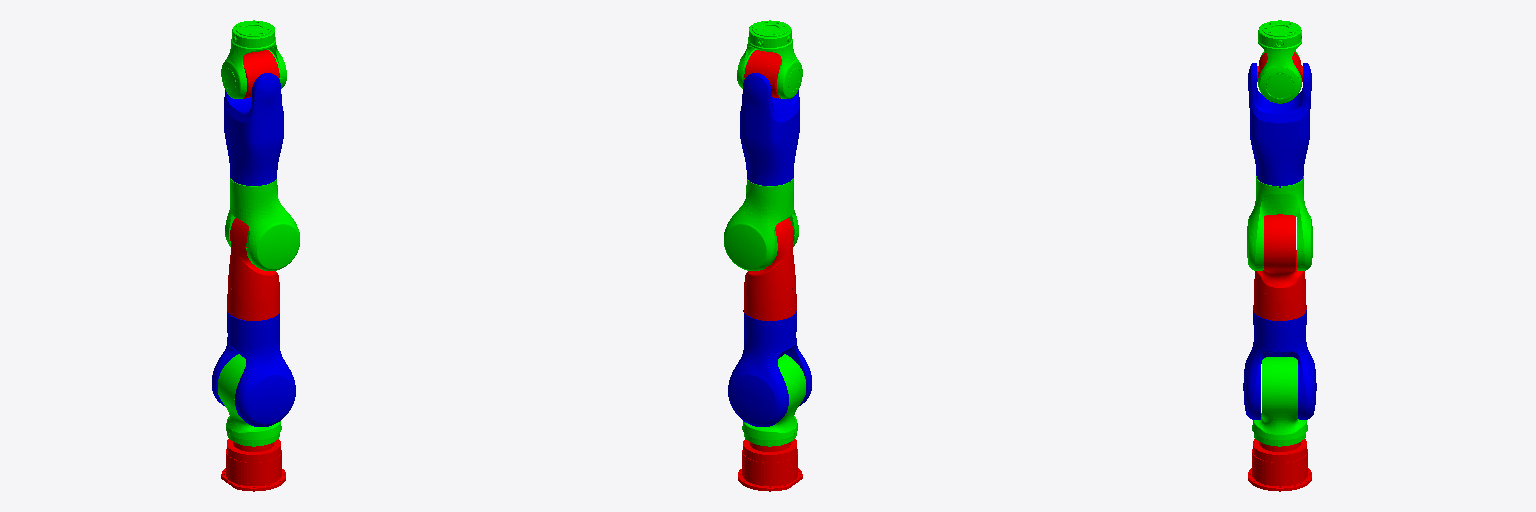
robot.urdf — Marvin M6-S-R-CCS-689 urdf:
<?xml version="1.0" encoding="utf-8"?>
<!-- This URDF was automatically created by SolidWorks to URDF Exporter! Originally created by [author] ([email redacted]) 
     Commit Version: 1.5.1-0-g916b5db  Build Version: 1.5.7152.31018
     For more information, please see http://wiki.ros.org/sw_urdf_exporter -->
<robot
  name="Marvin M6-S-R-CCS-689 urdf">
  <link
    name="Base_R">
    <inertial>
      <origin
        xyz="0.0001427 1.626E-05 0.039067"
        rpy="0 0 0" />
      <mass
        value="1.2946" />
      <inertia
        ixx="0.0031404"
        ixy="1.07E-06"
        ixz="-9.1E-07"
        iyy="0.0031251"
        iyz="3.9E-06"
        izz="0.0014169" />
    </inertial>
    <visual>
      <origin
        xyz="0 0 0"
        rpy="0 0 0" />
      <geometry>
        <mesh
          filename="package://Marvin M6-S-R-CCS-689_URDF/meshes/Base_R.STL" />
      </geometry>
      <material
        name="">
        <color
          rgba="1 0 0 1" />
      </material>
    </visual>
    <collision>
      <origin
        xyz="0 0 0"
        rpy="0 0 0" />
      <geometry>
        <mesh
          filename="package://Marvin M6-S-R-CCS-689_URDF/meshes/Base_R.STL" />
      </geometry>
    </collision>
  </link>
  <link
    name="Link1_R">
    <inertial>
      <origin
        xyz="1.875E-05 0.006003 0.1438"
        rpy="0 0 0" />
      <mass
        value="2.0926" />
      <inertia
        ixx="0.0485"
        ixy="2.85E-06"
        ixz="9.42E-06"
        iyy="0.048824"
        iyz="0.0021904"
        izz="0.0020558" />
    </inertial>
    <visual>
      <origin
        xyz="0 0 0"
        rpy="0 0 0" />
      <geometry>
        <mesh
          filename="package://Marvin M6-S-R-CCS-689_URDF/meshes/Link1_R.STL" />
      </geometry>
      <material
        name="">
        <color
          rgba="0 1 0 1" />
      </material>
    </visual>
    <collision>
      <origin
        xyz="0 0 0"
        rpy="0 0 0" />
      <geometry>
        <mesh
          filename="package://Marvin M6-S-R-CCS-689_URDF/meshes/Link1_R.STL" />
      </geometry>
    </collision>
  </link>
  <joint
    name="Joint1_R"
    type="revolute">
    <origin
      xyz="0 0 0"
      rpy="0 0 0" />
    <parent
      link="Base_R" />
    <child
      link="Link1_R" />
    <axis
      xyz="0 0 1" />
    <limit
      lower="-3.1067"
      upper="3.1067"
      effort="108"
      velocity="3.1416" />
  </joint>
  <link
    name="Link2_R">
    <inertial>
      <origin
        xyz="-7.03E-06 0.05542 0.010995"
        rpy="0 0 0" />
      <mass
        value="1.9432" />
      <inertia
        ixx="0.016558"
        ixy="-6.34E-06"
        ixz="1.91E-06"
        iyy="0.0033963"
        iyz="-6.31E-06"
        izz="0.015504" />
    </inertial>
    <visual>
      <origin
        xyz="0 0 0"
        rpy="0 0 0" />
      <geometry>
        <mesh
          filename="package://Marvin M6-S-R-CCS-689_URDF/meshes/Link2_R.STL" />
      </geometry>
      <material
        name="">
        <color
          rgba="0 0 1 1" />
      </material>
    </visual>
    <collision>
      <origin
        xyz="0 0 0"
        rpy="0 0 0" />
      <geometry>
        <mesh
          filename="package://Marvin M6-S-R-CCS-689_URDF/meshes/Link2_R.STL" />
      </geometry>
    </collision>
  </link>
  <joint
    name="Joint2_R"
    type="revolute">
    <origin
      xyz="0 0 0.1745"
      rpy="1.5708 0 0" />
    <parent
      link="Link1_R" />
    <child
      link="Link2_R" />
    <axis
      xyz="0 0 1" />
    <limit
      lower="-2.0944"
      upper="2.0944"
      effort="108"
      velocity="3.1416" />
  </joint>
  <link
    name="Link3_R">
    <inertial>
      <origin
        xyz="0.0087411 0.0019043 0.23487"
        rpy="0 0 0" />
      <mass
        value="1.6913" />
      <inertia
        ixx="0.099807"
        ixy="6.153E-05"
        ixz="0.0042654"
        iyy="0.10032"
        iyz="0.0009332"
        izz="0.0017797" />
    </inertial>
    <visual>
      <origin
        xyz="0 0 0"
        rpy="0 0 0" />
      <geometry>
        <mesh
          filename="package://Marvin M6-S-R-CCS-689_URDF/meshes/Link3_R.STL" />
      </geometry>
      <material
        name="">
        <color
          rgba="1 0 0 1" />
      </material>
    </visual>
    <collision>
      <origin
        xyz="0 0 0"
        rpy="0 0 0" />
      <geometry>
        <mesh
          filename="package://Marvin M6-S-R-CCS-689_URDF/meshes/Link3_R.STL" />
      </geometry>
    </collision>
  </link>
  <joint
    name="Joint3_R"
    type="revolute">
    <origin
      xyz="0 0 0"
      rpy="-1.5708 0 0" />
    <parent
      link="Link2_R" />
    <child
      link="Link3_R" />
    <axis
      xyz="0 0 1" />
    <limit
      lower="-3.1067"
      upper="3.1067"
      effort="66"
      velocity="3.1416" />
  </joint>
  <link
    name="Link4_R">
    <inertial>
      <origin
        xyz="-0.0086935 0.045984 0.011135"
        rpy="0 0 0" />
      <mass
        value="1.5332" />
      <inertia
        ixx="0.0087075"
        ixy="-0.0012304"
        ixz="-1.947E-05"
        iyy="0.0023918"
        iyz="9.793E-05"
        izz="0.0082548" />
    </inertial>
    <visual>
      <origin
        xyz="0 0 0"
        rpy="0 0 0" />
      <geometry>
        <mesh
          filename="package://Marvin M6-S-R-CCS-689_URDF/meshes/Link4_R.STL" />
      </geometry>
      <material
        name="">
        <color
          rgba="0 1 0 1" />
      </material>
    </visual>
    <collision>
      <origin
        xyz="0 0 0"
        rpy="0 0 0" />
      <geometry>
        <mesh
          filename="package://Marvin M6-S-R-CCS-689_URDF/meshes/Link4_R.STL" />
      </geometry>
    </collision>
  </link>
  <joint
    name="Joint4_R"
    type="revolute">
    <origin
      xyz="0.018 0 0.287"
      rpy="1.5708 0 0" />
    <parent
      link="Link3_R" />
    <child
      link="Link4_R" />
    <axis
      xyz="0 0 1" />
    <limit
      lower="-2.5307"
      upper="1.0472"
      effort="66"
      velocity="3.1416" />
  </joint>
  <link
    name="Link5_R">
    <inertial>
      <origin
        xyz=" 0.00036663 -0.00041429 0.19889130 "
        rpy="0 0 0" />
      <mass
        value="1.9854" />
      <inertia
        ixx=" 0.08421414 "
        ixy=" -0.00003503 "
        ixz=" 0.00019071 "
        iyy=" 0.08380223"
        iyz=" -0.00019334 "
        izz=" 0.00209565" />
    </inertial>
    <visual>
      <origin
        xyz="0 0 0"
        rpy="0 0 0" />
      <geometry>
        <mesh
          filename="package://Marvin M6-S-R-CCS-689_URDF/meshes/Link5_R.STL" />
      </geometry>
      <material
        name="">
        <color
          rgba="0 0 1 1" />
      </material>
    </visual>
    <collision>
      <origin
        xyz="0 0 0"
        rpy="0 0 0" />
      <geometry>
        <mesh
          filename="package://Marvin M6-S-R-CCS-689_URDF/meshes/Link5_R.STL" />
      </geometry>
    </collision>
  </link>
  <joint
    name="Joint5_R"
    type="revolute">
    <origin
      xyz="-0.018 0 0"
      rpy="-1.5708 0 0" />
    <parent
      link="Link4_R" />
    <child
      link="Link5_R" />
    <axis
      xyz="0 0 1" />
    <limit
      lower="-3.1067"
      upper="3.1067"
      effort="18"
      velocity="3.1416" />
  </joint>
  <link
    name="Link6_R">
    <inertial>
      <origin
        xyz=" -0.00458177 -0.00027029 0.00009098"
        rpy="0 0 0" />
      <mass
        value=" 0.64594816" />
      <inertia
        ixx=" 0.00047715"
        ixy=" 0.00000219"
        ixz=" -0.00000223"
        iyy=" 0.00040547"
        iyz=" 0.00000069"
        izz=" 0.00037475" />
    </inertial>
    <visual>
      <origin
        xyz="0 0 0"
        rpy="0 0 0" />
      <geometry>
        <mesh
          filename="package://Marvin M6-S-R-CCS-689_URDF/meshes/Link6_R.STL" />
      </geometry>
      <material
        name="">
        <color
          rgba="1 0 0 1" />
      </material>
    </visual>
    <collision>
      <origin
        xyz="0 0 0"
        rpy="0 0 0" />
      <geometry>
        <mesh
          filename="package://Marvin M6-S-R-CCS-689_URDF/meshes/Link6_R.STL" />
      </geometry>
    </collision>
  </link>
  <joint
    name="Joint6_R"
    type="revolute">
    <origin
      xyz="0 0 0.314"
      rpy="1.5708 0 0" />
    <parent
      link="Link5_R" />
    <child
      link="Link6_R" />
    <axis
      xyz="0 0 1" />
    <limit
      lower="-1.0472"
      upper="1.0472"
      effort="18"
      velocity="3.1416" />
  </joint>
  <link
    name="Link7_R">
    <inertial>
      <origin
        xyz=" 0.04498772 0.00004226 -0.00555813"
        rpy="0 0 0" />
      <mass
        value="0.31658" />
      <inertia
        ixx="0.00038289"
        ixy="7.4E-07"
        ixz="1.403E-05"
        iyy="0.00133"
        iyz="-6.1E-07"
        izz="0.0011774" />
    </inertial>
    <visual>
      <origin
        xyz="0 0 0"
        rpy="0 0 0" />
      <geometry>
        <mesh
          filename="package://Marvin M6-S-R-CCS-689_URDF/meshes/Link7_R.STL" />
      </geometry>
      <material
        name="">
        <color
          rgba="0 1 0 1" />
      </material>
    </visual>
    <collision>
      <origin
        xyz="0 0 0"
        rpy="0 0 0" />
      <geometry>
        <mesh
          filename="package://Marvin M6-S-R-CCS-689_URDF/meshes/Link7_R.STL" />
      </geometry>
    </collision>
  </link>
  <joint
    name="Joint7_R"
    type="revolute">
    <origin
      xyz="0 0 0"
      rpy="1.5708 0 1.5708" />
    <parent
      link="Link6_R" />
    <child
      link="Link7_R" />
    <axis
      xyz="0 0 1" />
    <limit
      lower="-1.5708"
      upper="1.5708"
      effort="18"
      velocity="3.1416" />
  </joint>
</robot>

--- What the picture shows (computed from the rendered views, not written in the file) ---
The picture shows the robot from 3 angles, left to right: view 1: azimuth 30°, elevation 25°; view 2: azimuth 150°, elevation 25°; view 3: azimuth 270°, elevation 25°; orthographic projection.
Robot: Marvin M6-S-R-CCS-689 urdf — 8 links, 7 joints (7 revolute); root link Base_R; default pose: every joint at zero.
Visible links, largest first — view 1: Link2_R, Link5_R, Link4_R, Link3_R, Base_R, Link7_R, Link1_R, Link6_R; view 2: Link2_R, Link5_R, Link4_R, Link3_R, Base_R, Link7_R, Link1_R, Link6_R; view 3: Link5_R, Link3_R, Link2_R, Link1_R, Link4_R, Link7_R, Base_R.
Boxes of the visible links, <box> form: Link2_R: <box>212,311,295,426</box>; Link5_R: <box>224,73,283,185</box>; Link4_R: <box>225,178,299,270</box>; Link3_R: <box>227,218,279,320</box>; Base_R: <box>221,439,285,491</box>; Link7_R: <box>221,20,286,98</box>; Link1_R: <box>218,354,281,446</box>; Link6_R: <box>243,50,279,98</box>; Link2_R: <box>728,310,811,426</box>; Link5_R: <box>740,73,799,185</box>; Link4_R: <box>724,178,798,270</box>; Link3_R: <box>744,218,796,320</box>; Base_R: <box>738,439,802,491</box>; Link7_R: <box>737,20,802,98</box>; Link1_R: <box>742,354,805,446</box>; Link6_R: <box>744,50,780,98</box>; Link5_R: <box>1248,63,1311,187</box>; Link3_R: <box>1253,214,1306,320</box>; Link2_R: <box>1243,310,1316,419</box>; Link1_R: <box>1252,357,1307,446</box>; Link4_R: <box>1247,176,1312,270</box>; Link7_R: <box>1258,20,1301,103</box>; Base_R: <box>1248,439,1311,491</box>.
Size in the robot's own frame: 0.1262 by 0.1271 by 0.8695 metres.
8 mesh visuals loaded from 8 distinct referenced files (8 binary STL).
